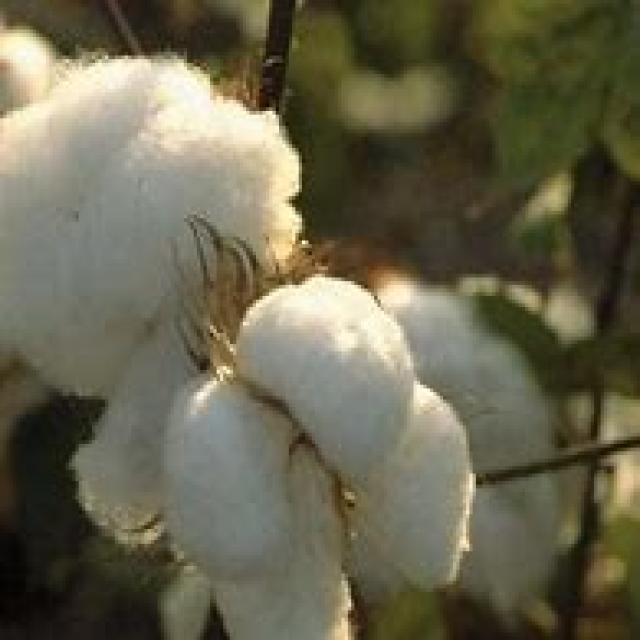Matured Cotton Boll: (148, 264, 478, 640), (0, 48, 333, 398)
